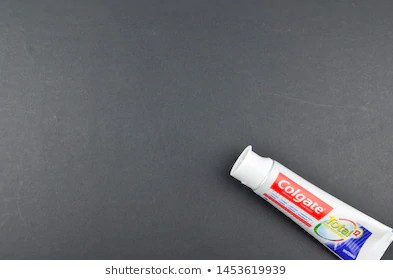colgate-total-150gm: (226, 142, 393, 262)
